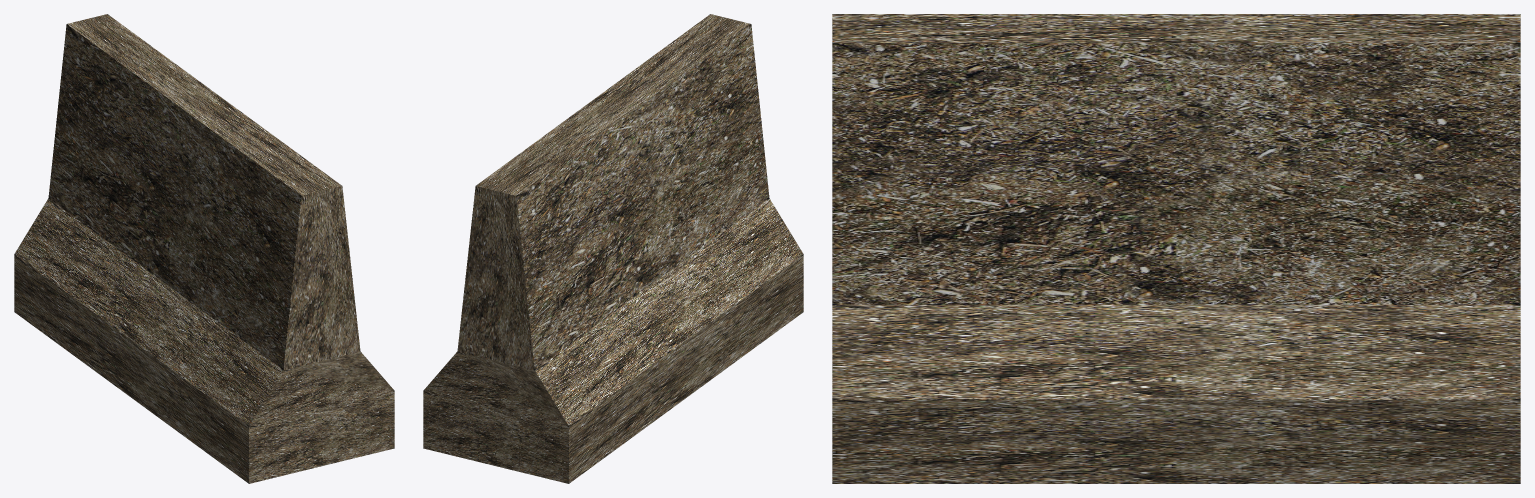
File: barriers.obj
3 views of the same model, side by side, from view 1: azimuth 30°, elevation 25°; view 2: azimuth 150°, elevation 25°; view 3: azimuth 270°, elevation 25° (orthographic). The views are drawn at different scales.
Parts seen in each view (by area): view 1: Cube_Cube.003; view 2: Cube_Cube.003; view 3: Cube_Cube.003.
Part boxes in pixels (bbox=[...]): Cube_Cube.003: bbox=[14, 14, 394, 483]; Cube_Cube.003: bbox=[423, 14, 803, 483]; Cube_Cube.003: bbox=[832, 14, 1520, 483].
Bounding box in the file's own units: 0.5332 × 0.9633 × 1.49.
Materials: 1 (1 with a texture image).
